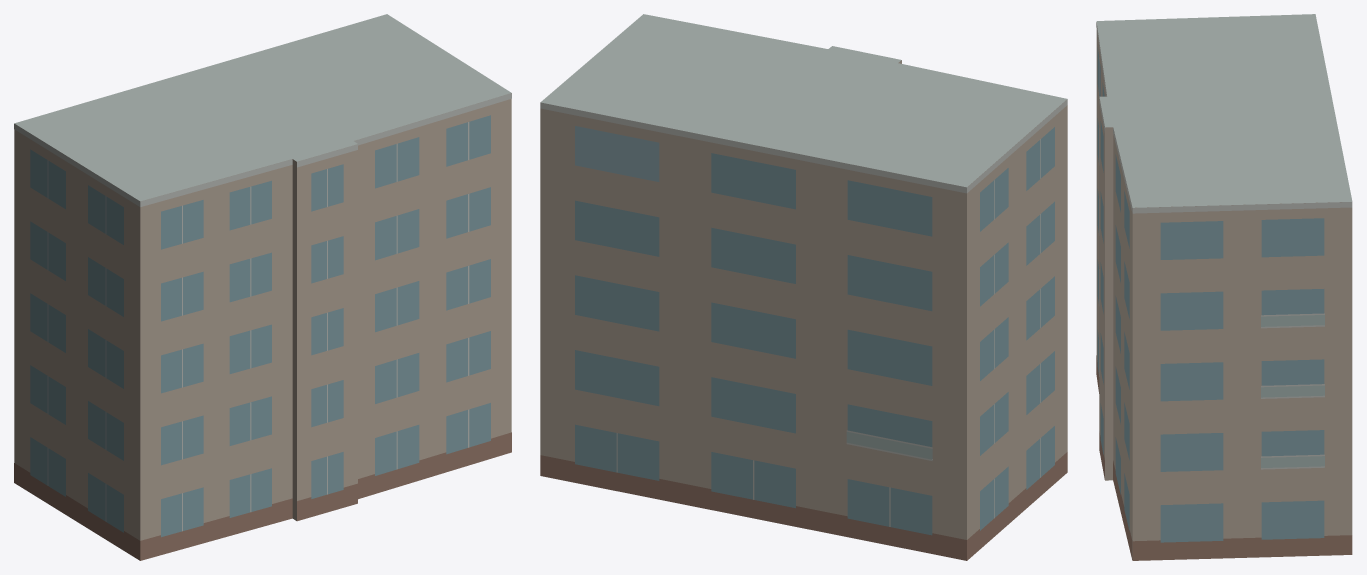
Rendered from survey-upis-33008241.glb.
3 renders of one model, left to right at view 1: azimuth 30°, elevation 25°; view 2: azimuth 150°, elevation 25°; view 3: azimuth 270°, elevation 25°, orthographic. The views are drawn at different scales.
Parts seen in each view (by area): view 1: survey-upis-33008241.tmp; view 2: survey-upis-33008241.tmp; view 3: survey-upis-33008241.tmp.
Part boxes in pixels (left/top/right/bottom): survey-upis-33008241.tmp: left=14, top=14, right=511, bottom=560; survey-upis-33008241.tmp: left=540, top=14, right=1067, bottom=560; survey-upis-33008241.tmp: left=1096, top=14, right=1352, bottom=560.
Bounding box in the file's own units: 17.79 × 15.1 × 9.93.
